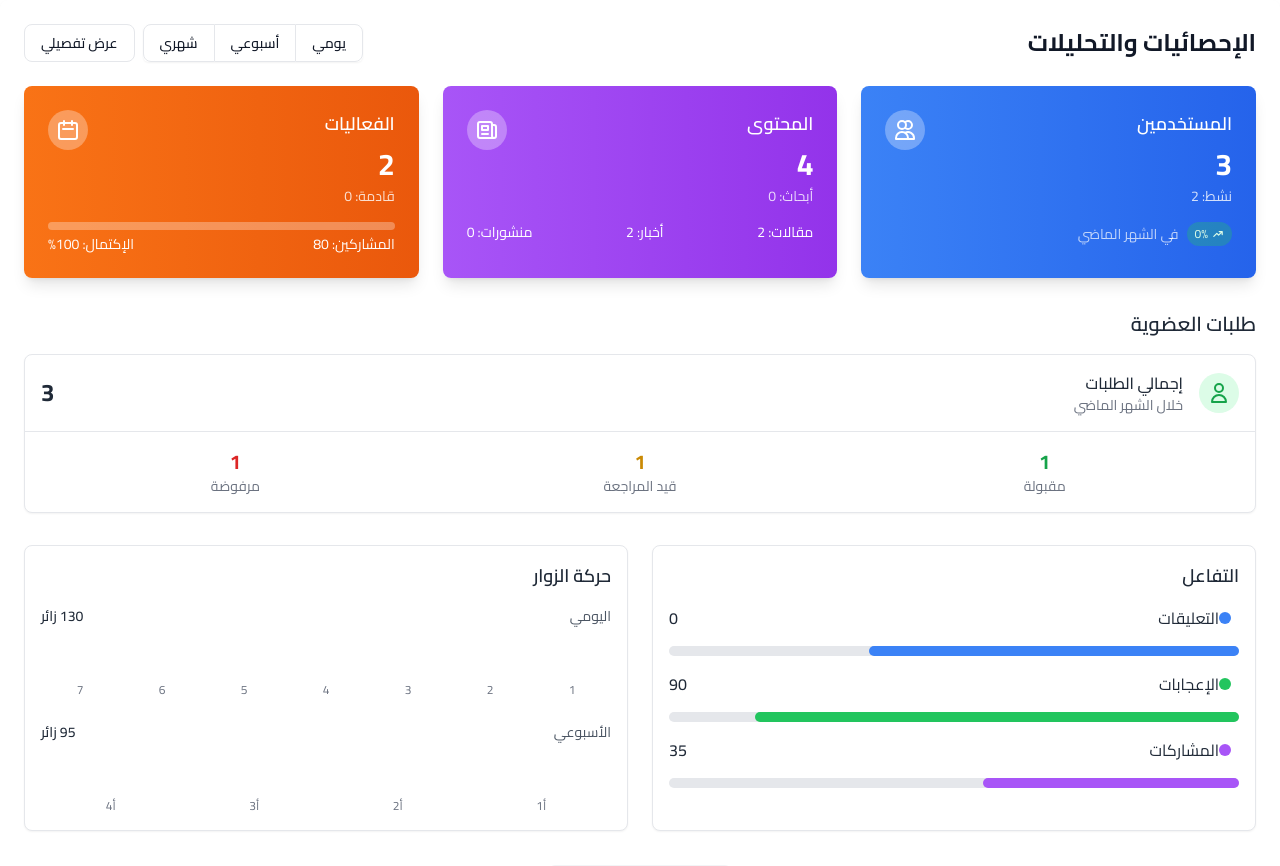
it: Statistics Component › toggles detailed stats view
expect the heading "الإحصائيات والتحليلات" is shown: met, box [1028,27,1256,59]
Click the button "عرض تفصيلي".
click(79, 43)  # box [24,24,135,62]
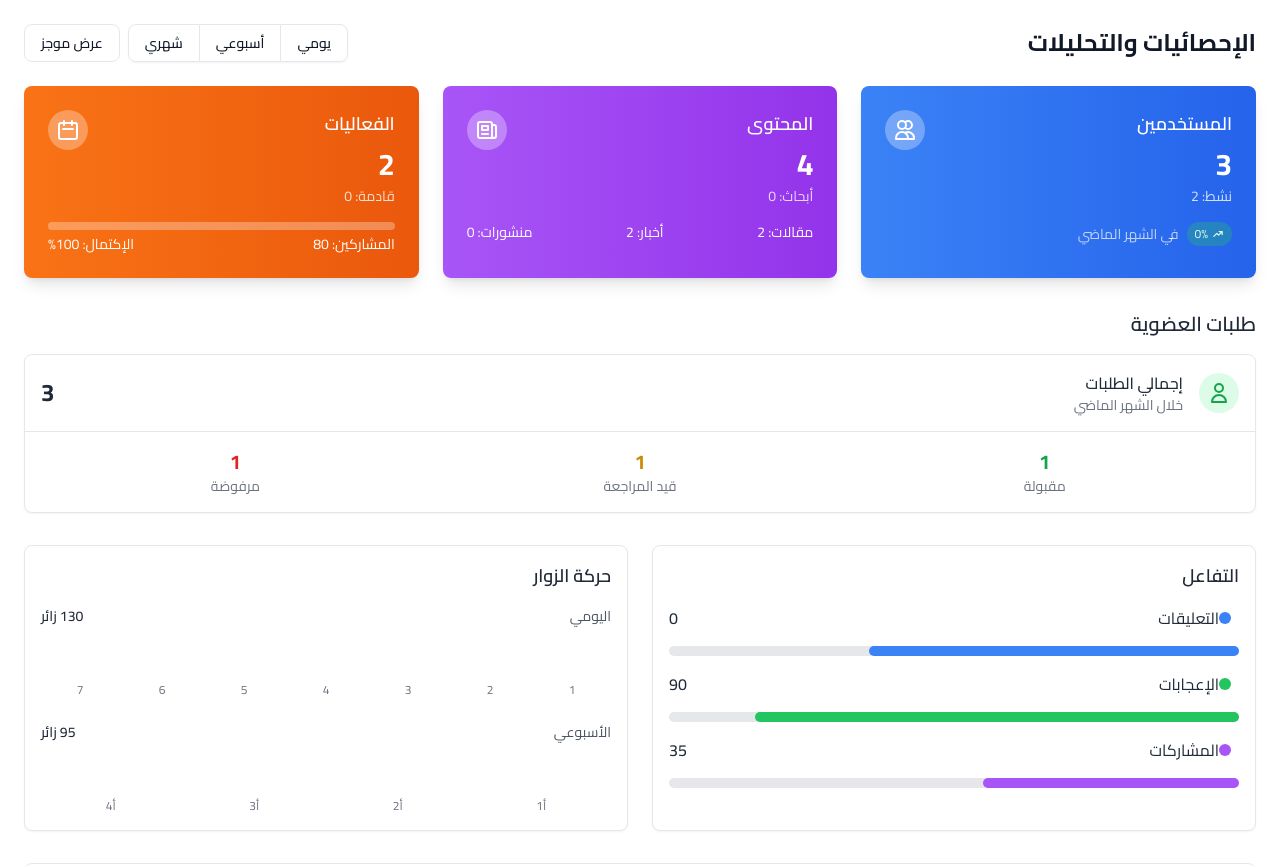
expect the button "عرض موجز" is shown: met, box [24,24,120,62]
